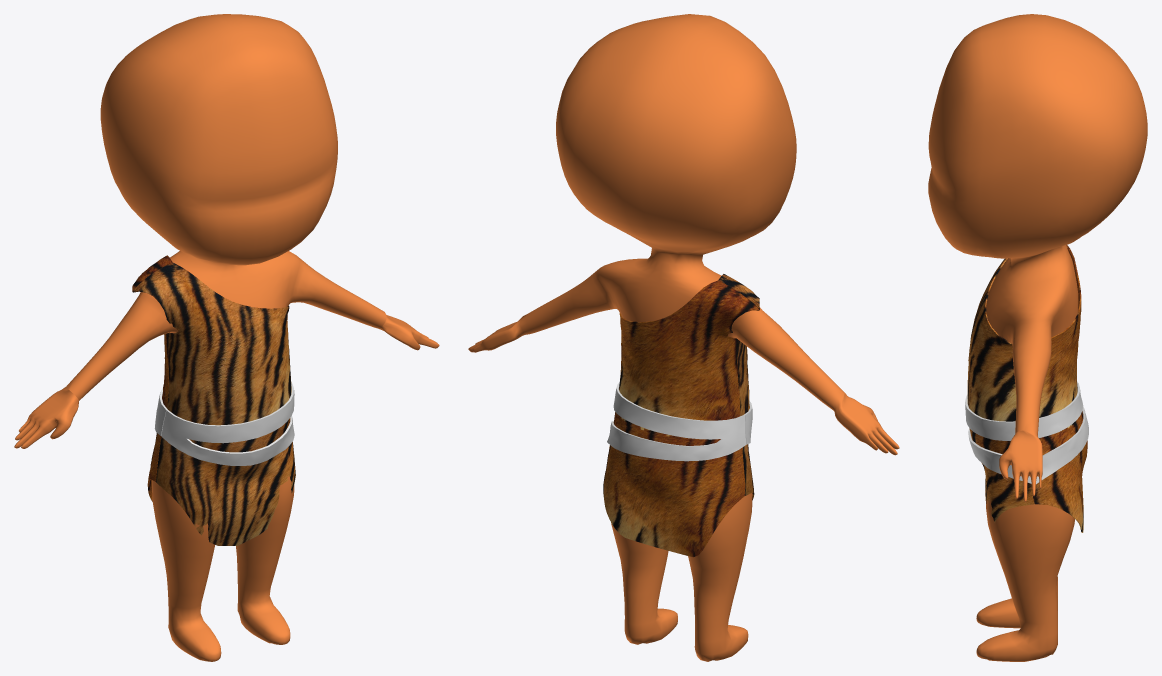
Rendered from Human_Basic_1.fbx.
3 views of the same model, side by side, from view 1: azimuth 30°, elevation 25°; view 2: azimuth 150°, elevation 25°; view 3: azimuth 270°, elevation 25° (orthographic).
Parts seen in each view (by area): view 1: Cylinder003, Line001, Line002, Line005; view 2: Cylinder003, Line001, Line002, Line005; view 3: Cylinder003, Line001, Line002, Line005.
Part boxes in pixels (x1,y1,x2,y2): Cylinder003: [14, 14, 439, 661]; Line001: [132, 255, 291, 425]; Line002: [147, 418, 295, 545]; Line005: [154, 381, 294, 465]; Cylinder003: [468, 14, 899, 661]; Line001: [619, 274, 759, 436]; Line002: [603, 412, 754, 557]; Line005: [607, 383, 752, 461]; Cylinder003: [928, 14, 1147, 661]; Line001: [967, 245, 1081, 433]; Line002: [969, 411, 1087, 532]; Line005: [965, 381, 1088, 484].
Bounding box in the file's own units: 55.87 × 77.26 × 25.08.
Materials: 2 (1 with a texture image).
